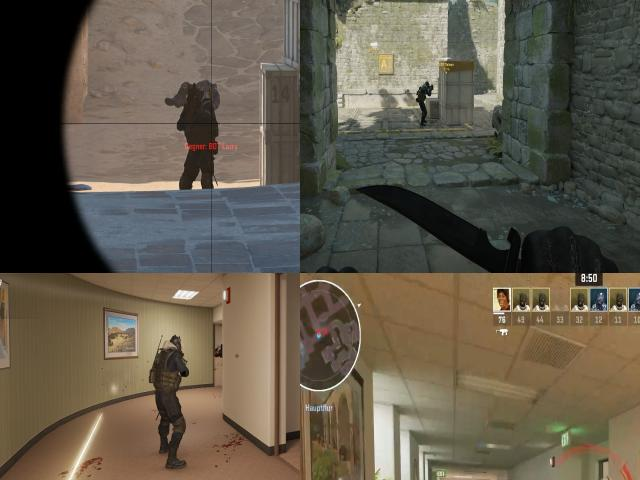CT: (157, 336, 185, 467), (179, 89, 216, 186), (418, 77, 434, 126)
CT-Head: (169, 334, 182, 353), (188, 87, 200, 107), (421, 80, 431, 89)
Dead: (172, 79, 222, 105)
